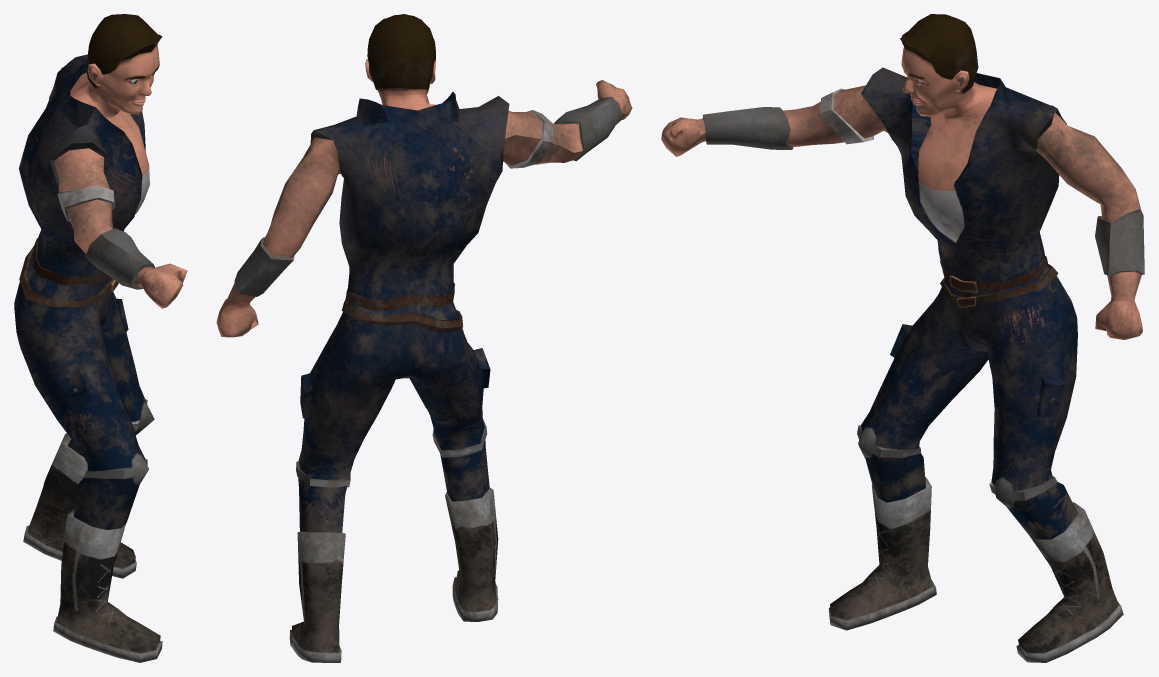
Rendered from Anim_abrir_puerta_ok_jugador.0028.obj.
3 renders of one model, left to right at view 1: azimuth 30°, elevation 25°; view 2: azimuth 150°, elevation 25°; view 3: azimuth 270°, elevation 25°, orthographic. The views are drawn at different scales.
Parts seen in each view (by area): view 1: polySurface1; view 2: polySurface1; view 3: polySurface1.
Part boxes in pixels (box(x1,y1,x2,y2)): polySurface1: box(14, 14, 187, 662); polySurface1: box(216, 14, 632, 662); polySurface1: box(661, 14, 1144, 662).
Size of the model in its own units: 3.25 by 9.21 by 6.53.
